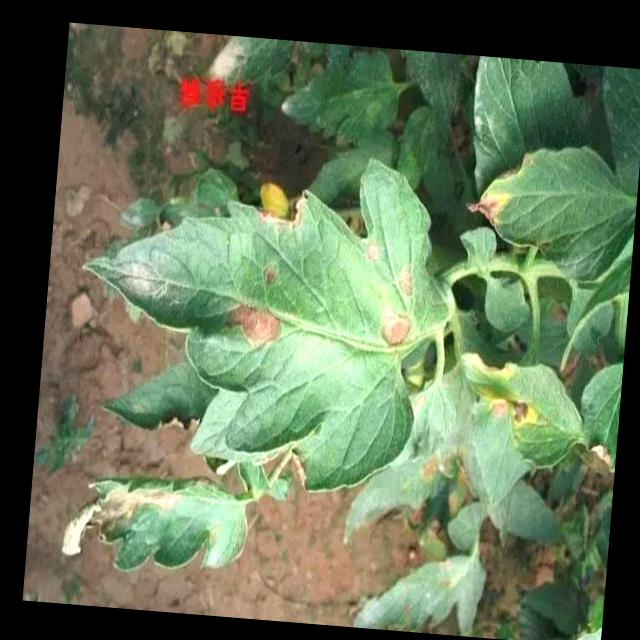Early_blight: (60, 482, 179, 565), (221, 297, 286, 356), (254, 184, 310, 236), (461, 190, 511, 232), (484, 387, 533, 429), (375, 302, 414, 352), (286, 449, 311, 491), (396, 261, 417, 297), (363, 241, 383, 269)
